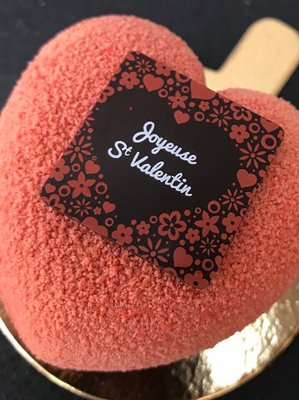pizza: (0, 7, 299, 399)
